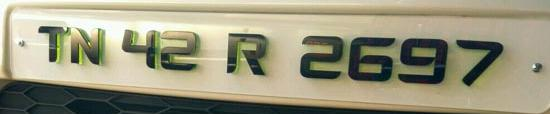2: (298, 32, 344, 80), (158, 25, 203, 74)
4: (118, 27, 159, 69)
6: (347, 33, 395, 83)
7: (452, 37, 506, 88)
9: (395, 33, 451, 85)
N: (67, 24, 105, 67)
R: (224, 26, 268, 79)
T: (33, 24, 68, 64)
